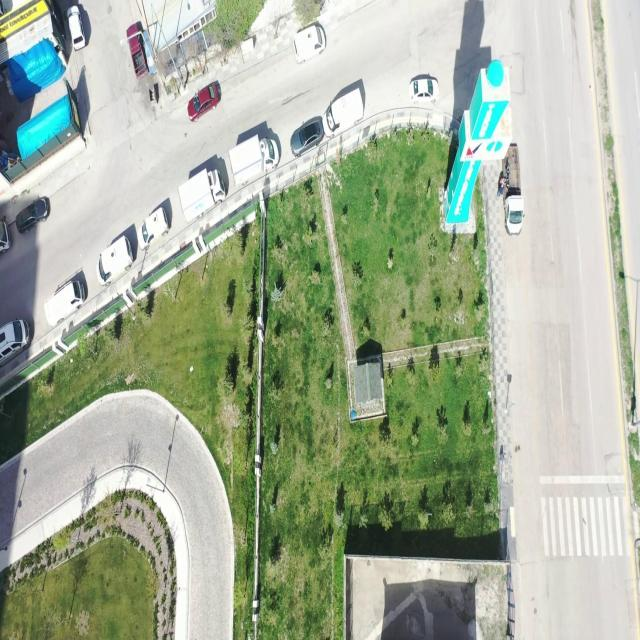p3rson: (496, 184, 503, 198), (499, 177, 507, 186)
